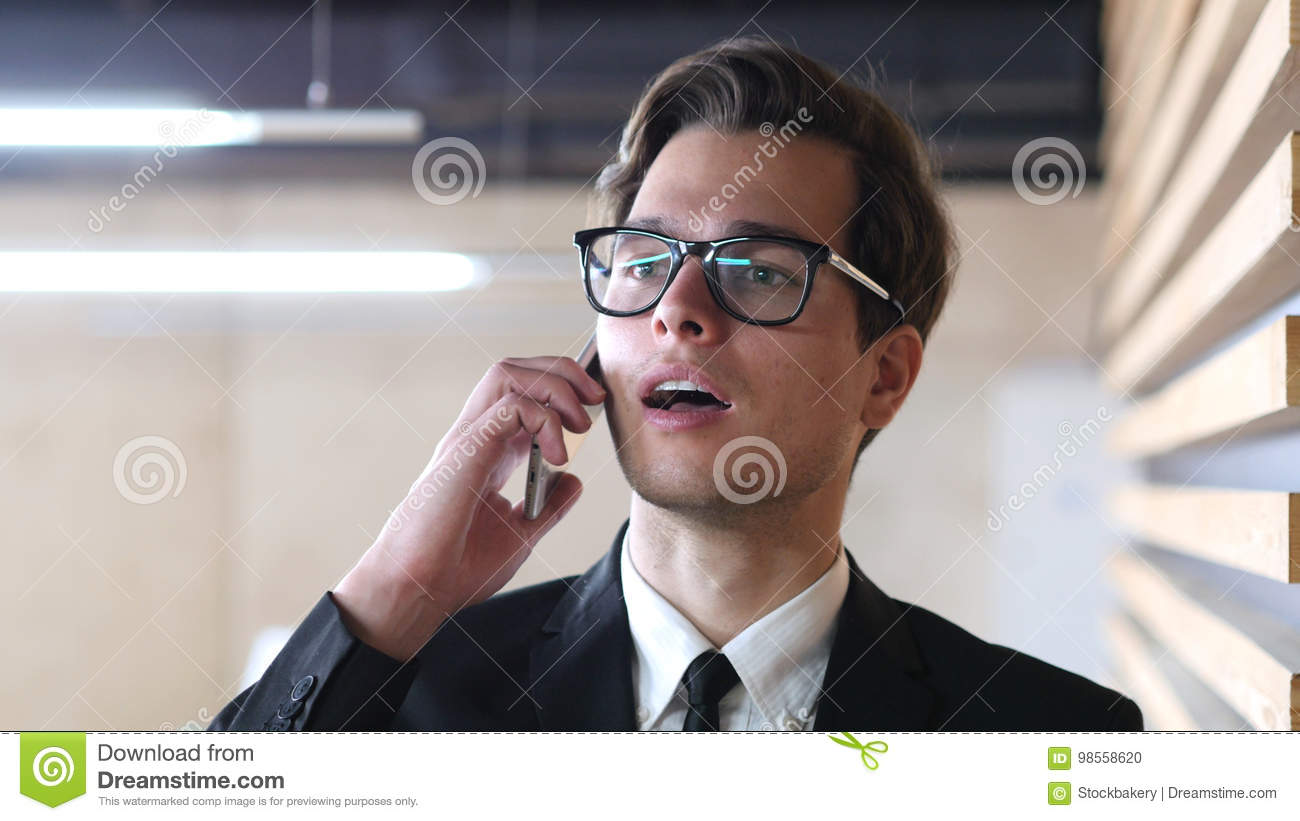phone: (527, 324, 607, 519)
talk: (376, 204, 832, 624)
